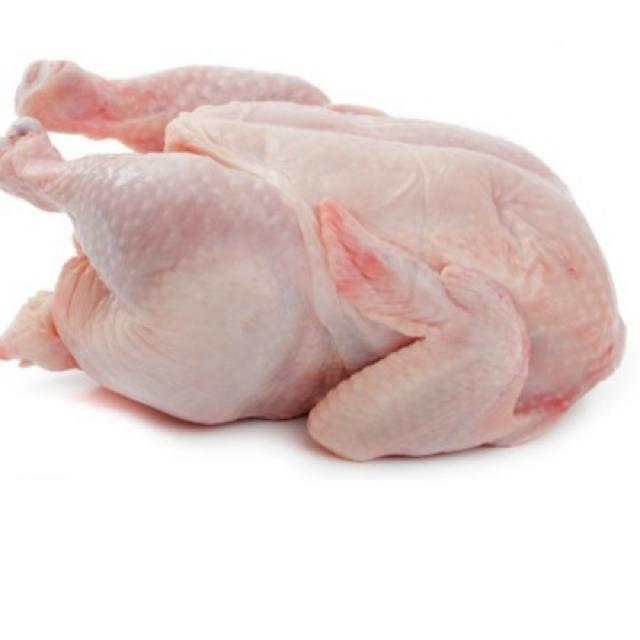Chicken: (1, 58, 624, 458)
